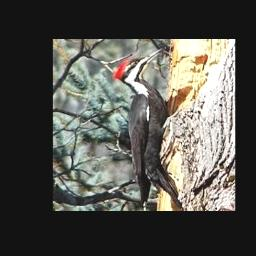Woodpecker: (114, 48, 183, 210)
